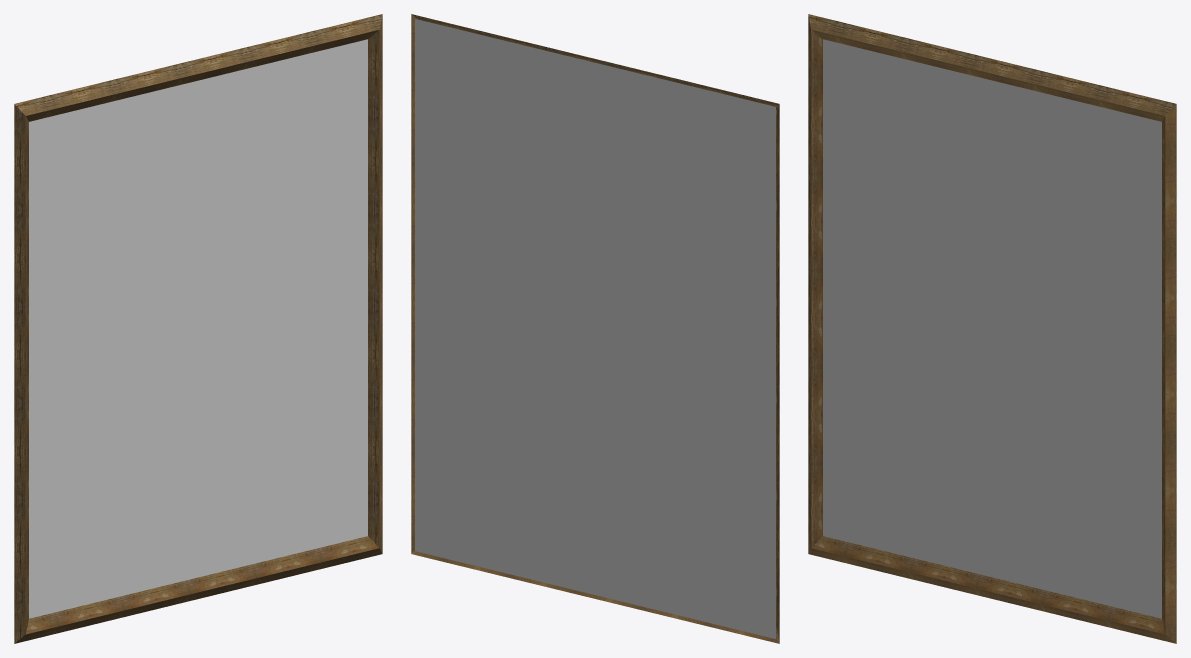
File: Painting.glb
3 renders of one model, left to right at view 1: azimuth 30°, elevation 25°; view 2: azimuth 150°, elevation 25°; view 3: azimuth 330°, elevation 25°, orthographic.
Parts seen in each view (by area): view 1: painting, frame; view 2: painting, frame; view 3: painting, frame.
Part boxes in pixels (left/top/right/bottom): painting: left=29, top=39, right=367, bottom=618; frame: left=14, top=14, right=382, bottom=643; painting: left=415, top=19, right=775, bottom=638; frame: left=411, top=14, right=779, bottom=643; painting: left=823, top=39, right=1161, bottom=618; frame: left=808, top=14, right=1176, bottom=643.
Size of the model in its own units: 0.5 by 0.7 by 0.01.
1 material, 1 textured.
